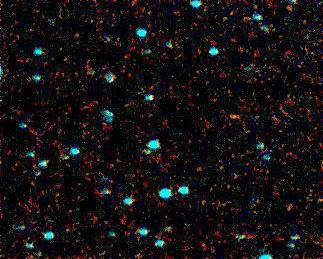star: (224, 104, 254, 134)
